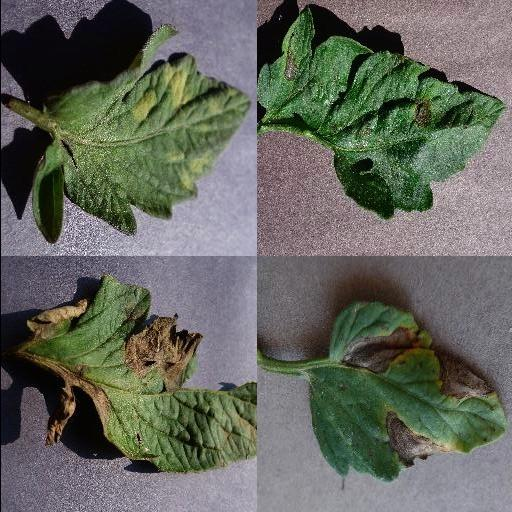Early Blight: (256, 6, 507, 219), (306, 301, 504, 481)
Late Blight: (23, 274, 256, 474)
Leaf Mold: (30, 25, 252, 244)
